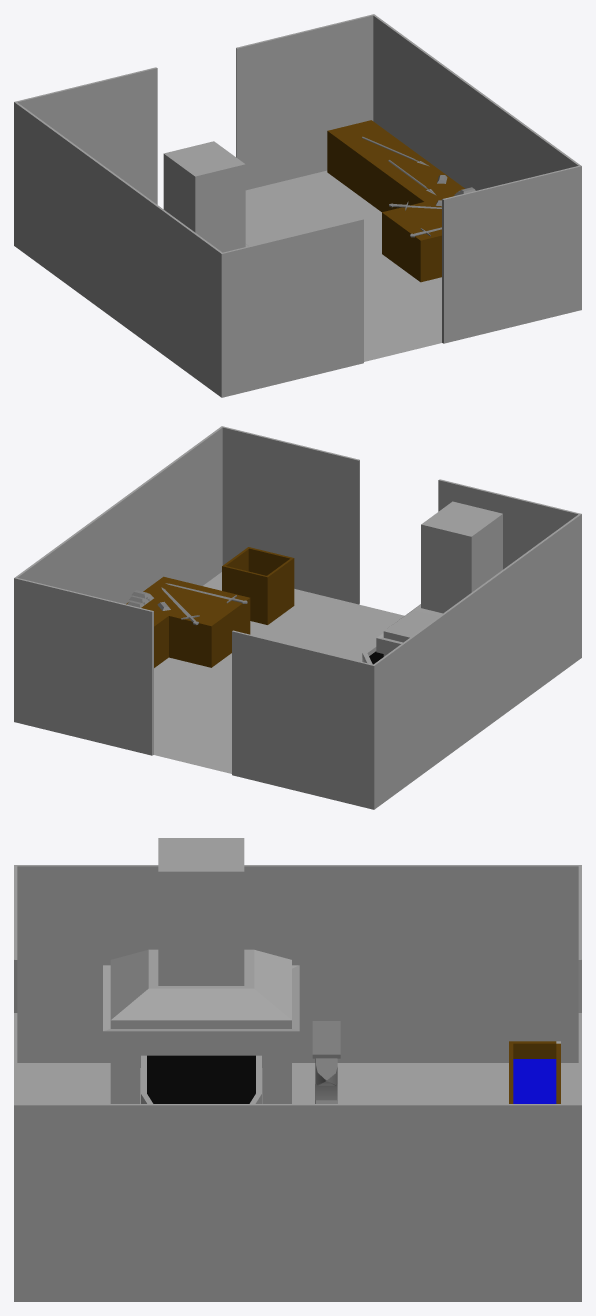
File: Coloured Blacksmith.fbx
The picture shows the model from 3 angles, top to bottom: view 1: azimuth 30°, elevation 25°; view 2: azimuth 150°, elevation 25°; view 3: azimuth 270°, elevation 25°; orthographic projection. The views are drawn at different scales.
Parts seen in each view (by area): view 1: polySurface1407; view 2: polySurface1407; view 3: polySurface1407.
Boxes of the visible parts, box(x1,y1,x2,y2) form: polySurface1407: box(14, 14, 581, 397); polySurface1407: box(14, 426, 581, 809); polySurface1407: box(14, 838, 581, 1301).
Bounding box in the file's own units: 0.9716 × 0.4553 × 0.9711.
